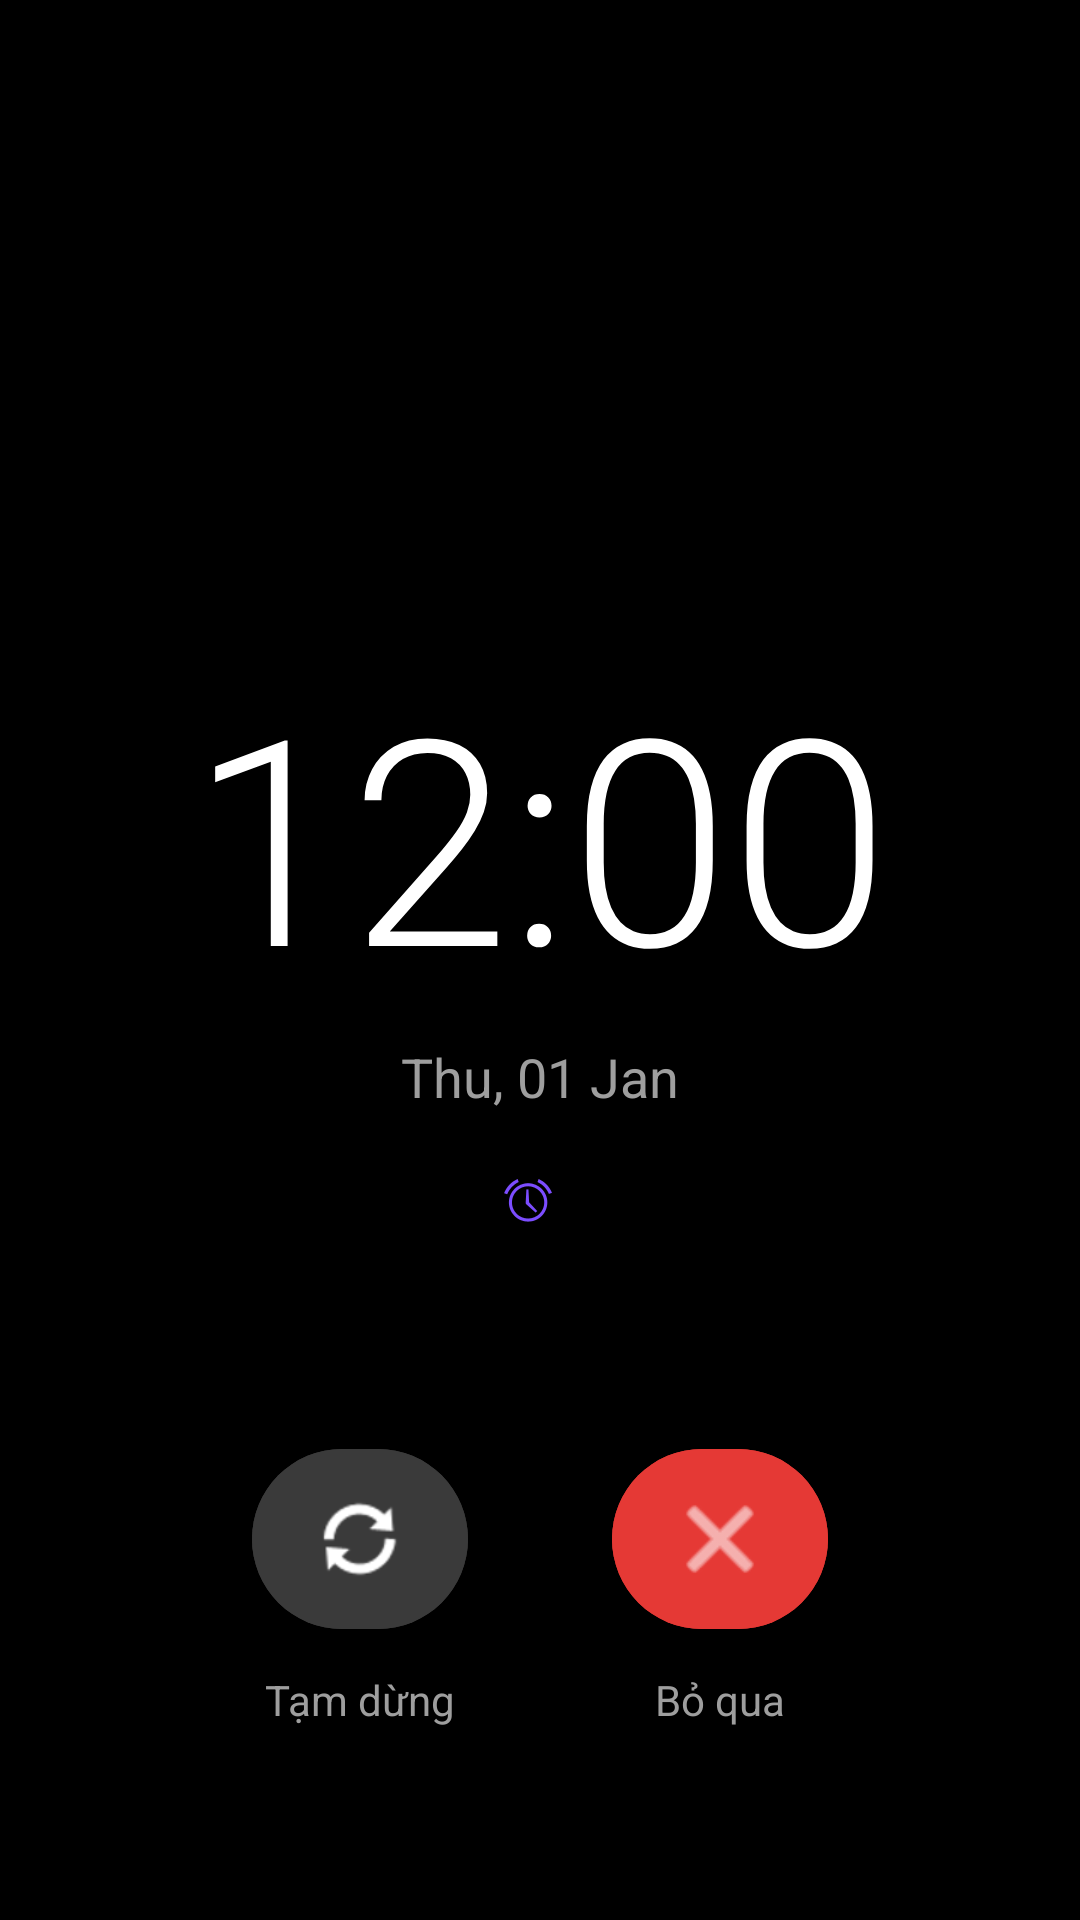

Icon click points for this 1080px x 1920px phone screenshot, format (x,y):
close clear cancel: (720,1539)
popup sync: (360,1539)
